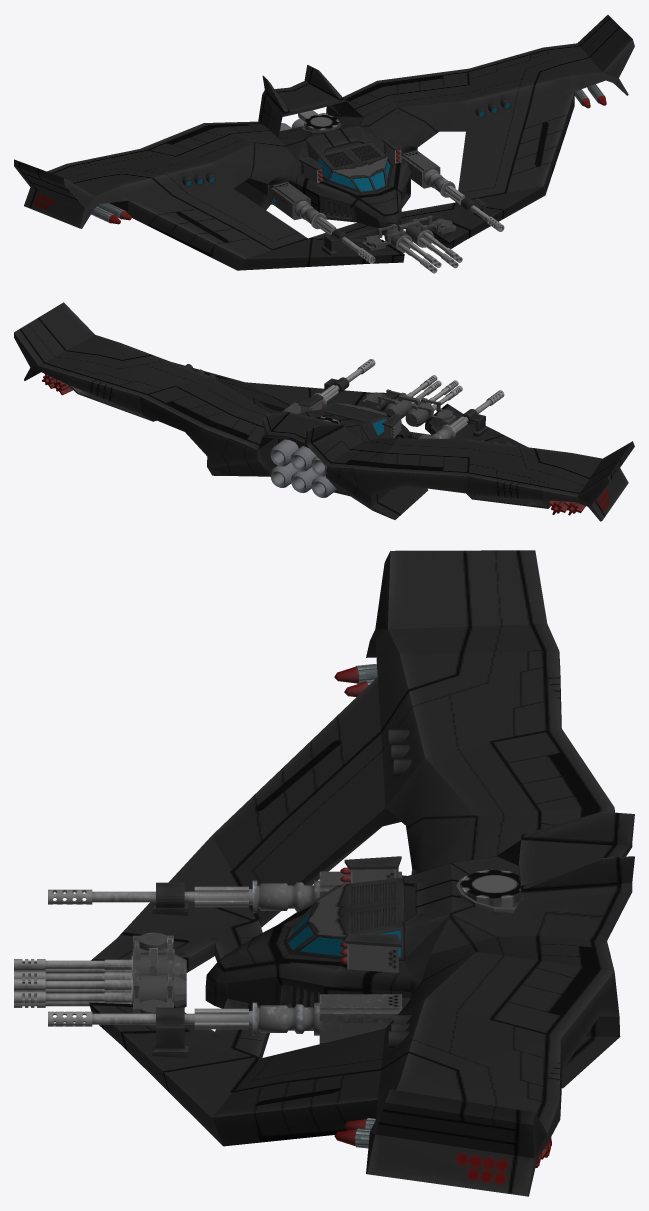
3 renders of one model, top to bottom at view 1: azimuth 30°, elevation 25°; view 2: azimuth 150°, elevation 25°; view 3: azimuth 270°, elevation 25°, orthographic. The views are drawn at different scales.
Visible parts, largest first — view 1: Body001; view 2: Body001; view 3: Body001.
Part boxes in pixels (box(x1,y1,x2,y2)): Body001: box(14, 15, 634, 273); Body001: box(14, 302, 634, 521); Body001: box(14, 550, 634, 1196).
Bounding box in the file's own units: 19.76 × 2.97 × 9.2.
Materials: 8 (8 with a texture image).
